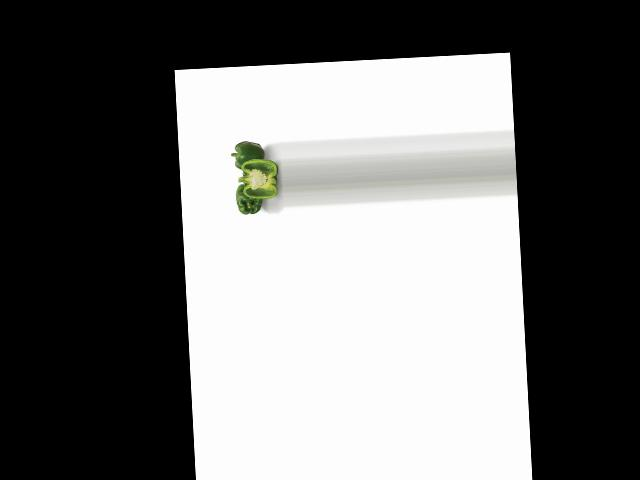bell_pepper: (232, 180, 266, 218)
